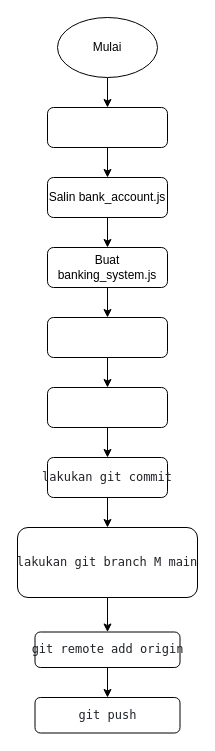
The diagram is 215 pixels wide and 751 high, and some of its shapes have lost their labels. The box of each missing label's shape, as (x1, y1, x2, y2) in pixels:
buat repository di github: (46, 106, 168, 148)
lakukan git add .: (46, 386, 168, 428)
lakukan git init pada folder lokal: (46, 316, 168, 358)
